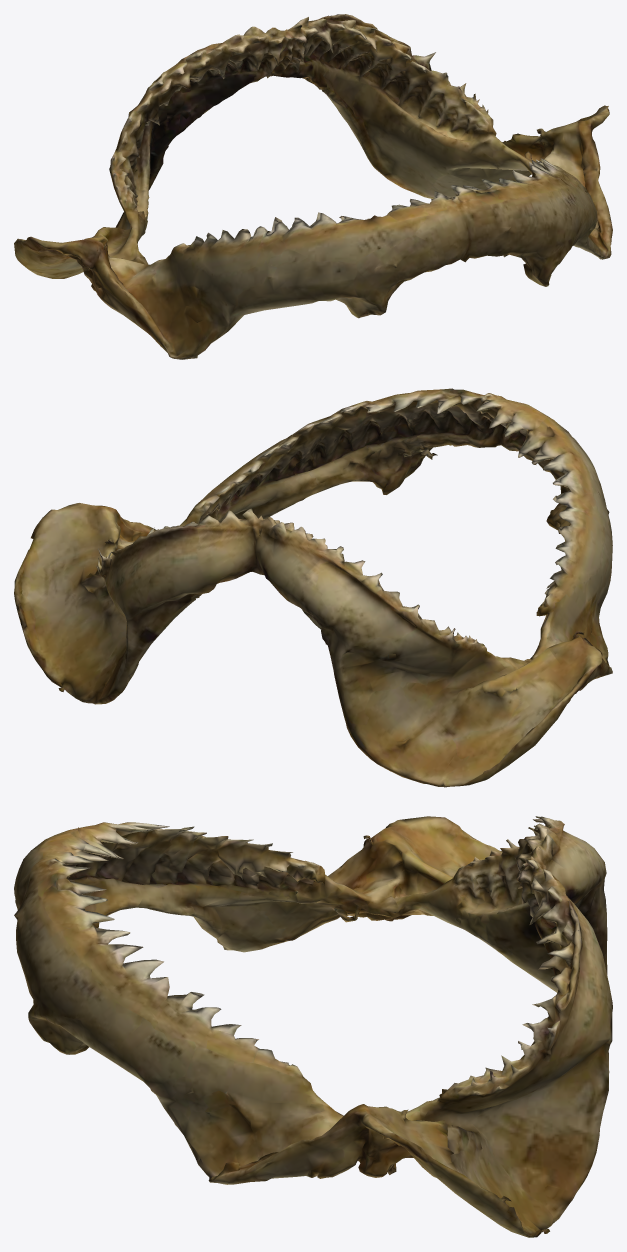
Rendered from shark_jaw.glb.
The picture shows the model from 3 angles, top to bottom: view 1: azimuth 30°, elevation 25°; view 2: azimuth 150°, elevation 25°; view 3: azimuth 270°, elevation 25°; orthographic projection. The views are drawn at different scales.
Size of the model in its own units: 2.63 by 0.9999 by 2.
1 material, 1 textured.
